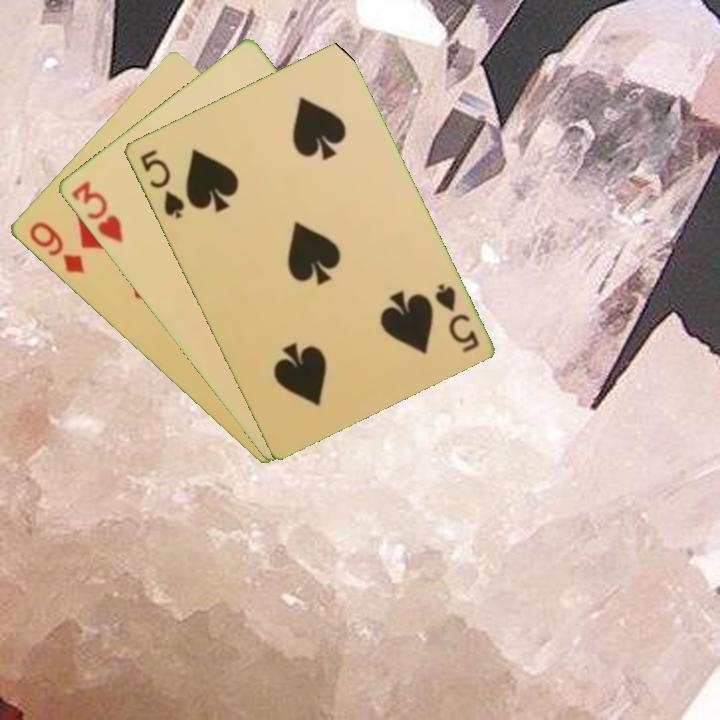3h: (67, 177, 126, 246)
5s: (136, 145, 187, 222), (431, 279, 482, 355)
9d: (25, 217, 87, 277)
